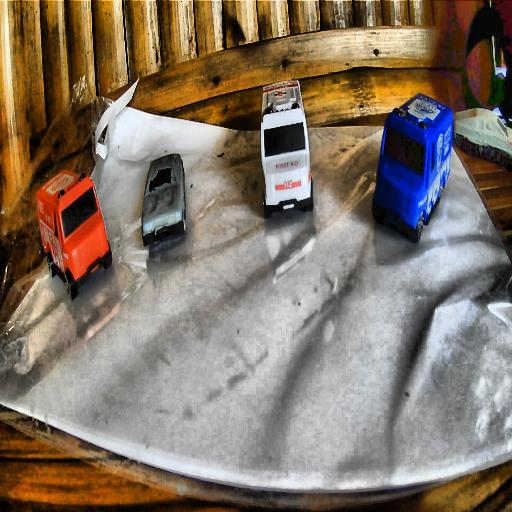ambulance: (259, 77, 313, 217)
fire_truck: (36, 168, 113, 300)
normal_car: (141, 153, 187, 247), (453, 108, 511, 174)
police car: (371, 91, 453, 243)
